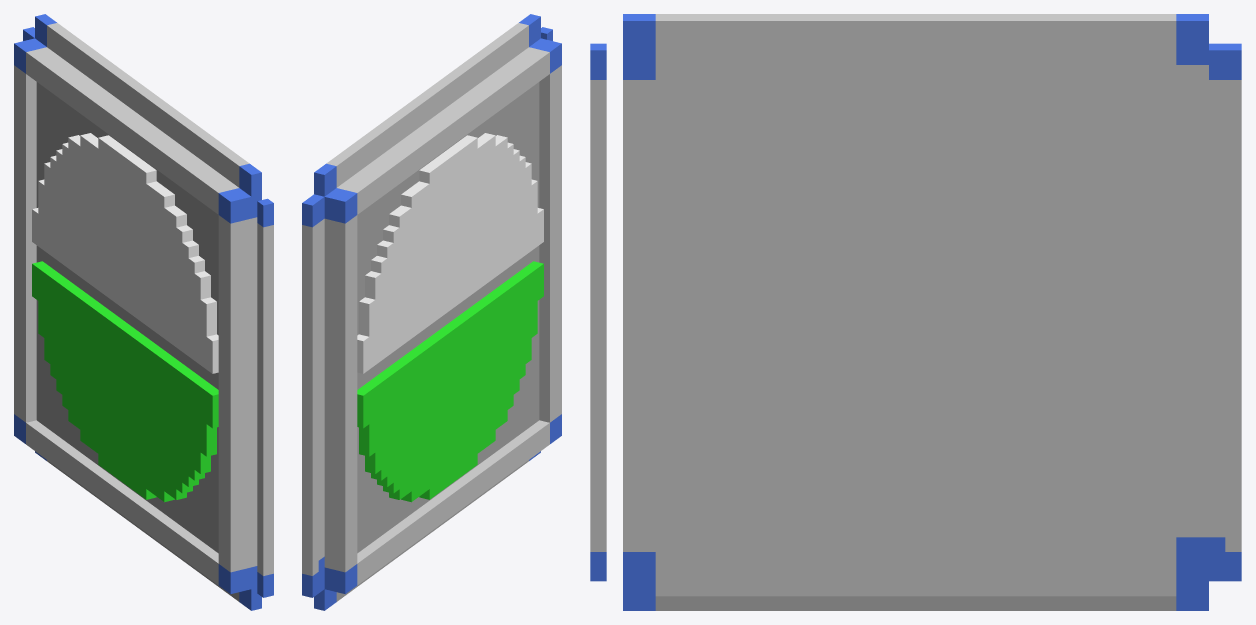
File: BeaconBox02.obj
3 renders of one model, left to right at view 1: azimuth 30°, elevation 25°; view 2: azimuth 150°, elevation 25°; view 3: azimuth 270°, elevation 25°, orthographic. The views are drawn at different scales.
Bounding box in the file's own units: 3 × 40 × 40.
1 material, 1 textured.
